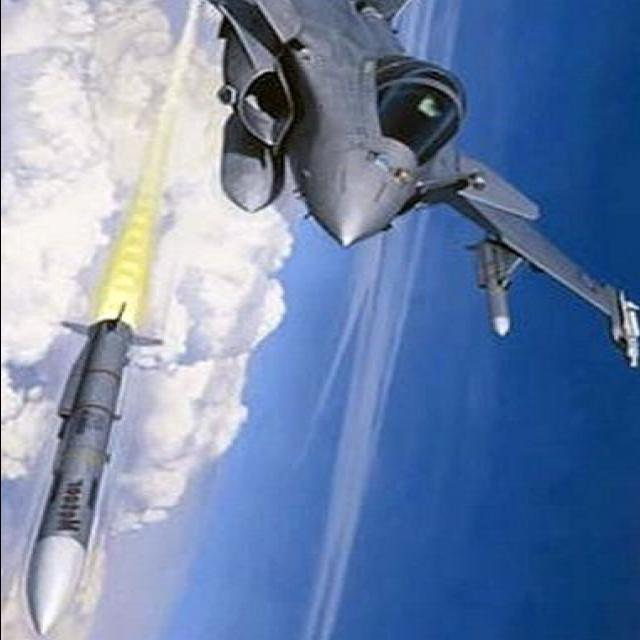missile: (27, 314, 162, 640)
